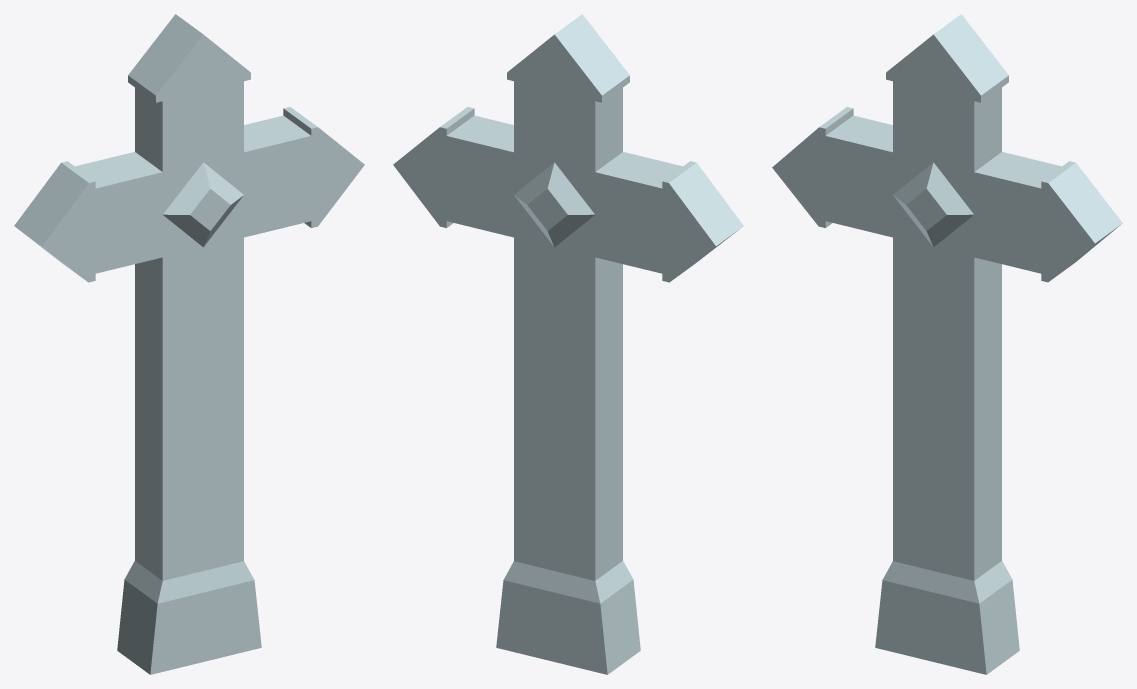
File: cross.glb
3 renders of one model, left to right at view 1: azimuth 30°, elevation 25°; view 2: azimuth 150°, elevation 25°; view 3: azimuth 330°, elevation 25°, orthographic.
Parts seen in each view (by area): view 1: cross; view 2: cross; view 3: cross.
Part boxes in pixels (<box>): cross: <box>14,14,364,674</box>; cross: <box>393,14,743,674</box>; cross: <box>772,14,1122,674</box>.
Size of the model in its own units: 0.5355 by 0.99 by 0.12.
